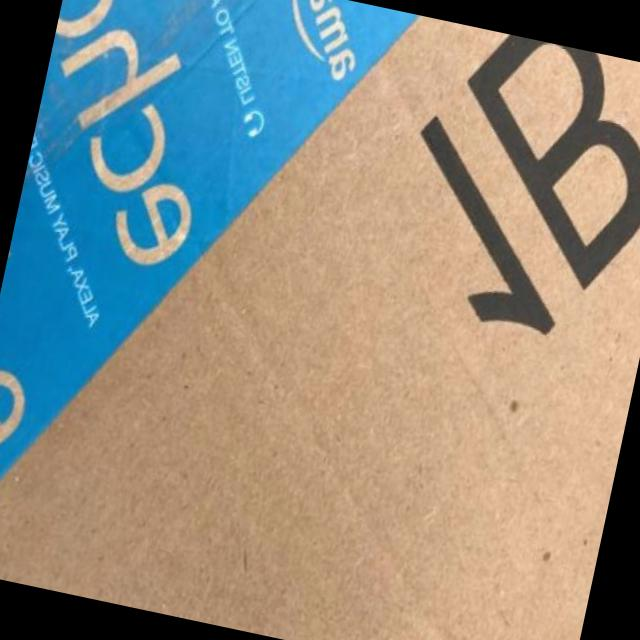cardboard paper: (0, 14, 640, 640)
